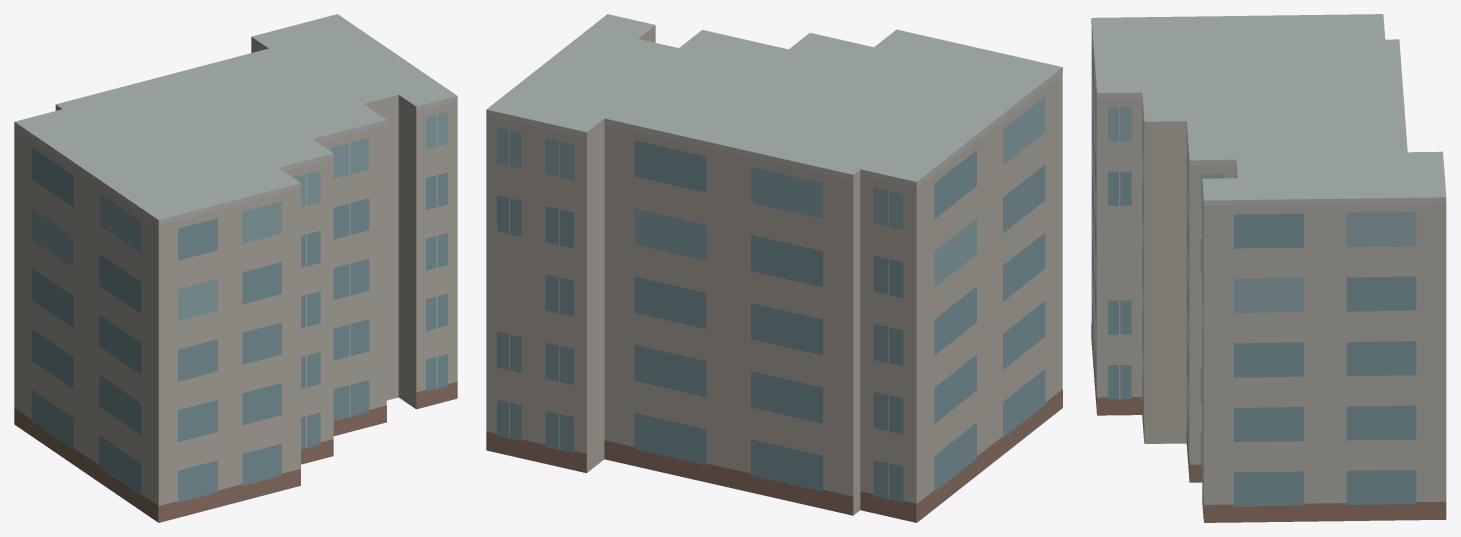
Rendered from survey-upis-33023630.glb.
3 views of the same model, side by side, from view 1: azimuth 30°, elevation 25°; view 2: azimuth 150°, elevation 25°; view 3: azimuth 270°, elevation 25° (orthographic). The views are drawn at different scales.
Parts seen in each view (by area): view 1: survey-upis-33023630.tmp; view 2: survey-upis-33023630.tmp; view 3: survey-upis-33023630.tmp.
Part boxes in pixels (x1,y1,x2,y2): survey-upis-33023630.tmp: (14, 14, 457, 522); survey-upis-33023630.tmp: (486, 14, 1062, 522); survey-upis-33023630.tmp: (1091, 14, 1446, 522).
Size of the model in its own units: 17.5 by 14.1 by 14.07.
